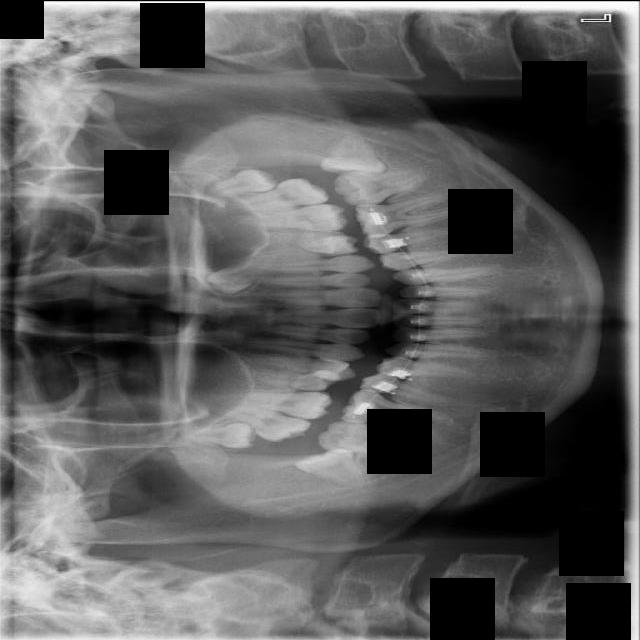3M ESPE Implant: (167, 421, 256, 449)
73: (542, 33, 552, 36)
BioHorizons Implant: (218, 172, 330, 215)
BioLife Implant: (198, 166, 279, 200)
Biomet 3i Implant: (320, 134, 386, 177)
Blue Sky Bio Implant: (332, 166, 431, 209)
Caries: (211, 396, 315, 450)
Implant: (318, 415, 411, 459)
Keystone Dental Implant: (295, 431, 377, 495)
